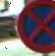No Stopping: (11, 0, 54, 49)
